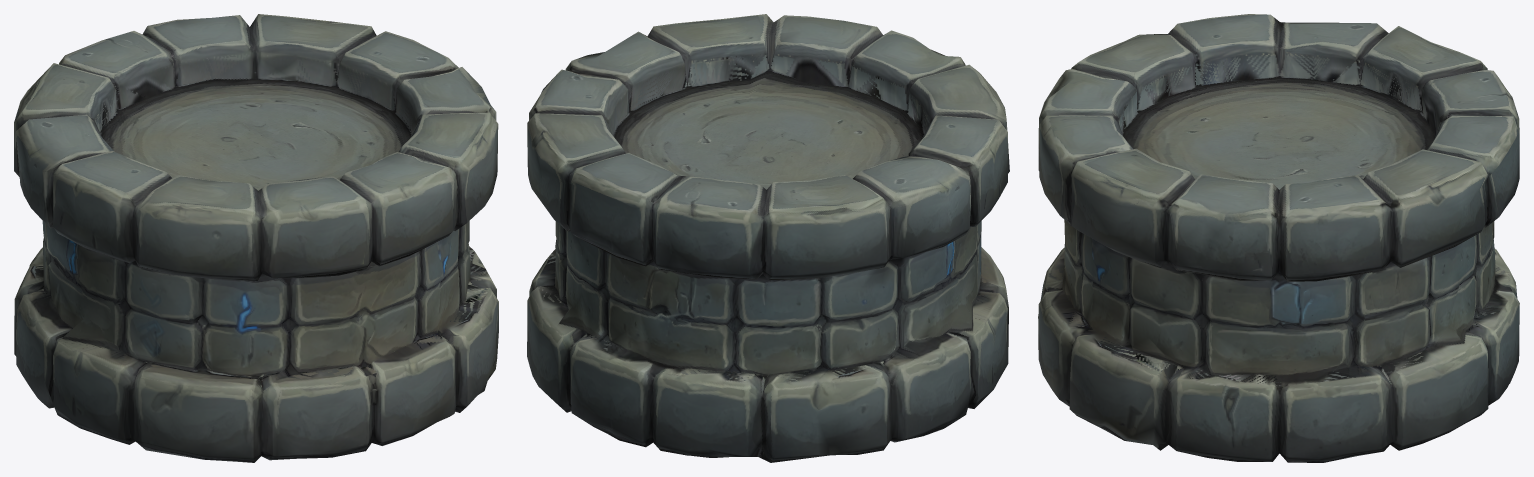
The model's file is Prop_Well.fbx.
The picture shows the model from 3 angles, left to right: view 1: azimuth 30°, elevation 25°; view 2: azimuth 150°, elevation 25°; view 3: azimuth 270°, elevation 25°; orthographic projection.
Parts seen in each view (by area): view 1: texture_mapping; view 2: texture_mapping; view 3: texture_mapping.
Boxes of the visible parts, x1,y1,x2,y2 form: texture_mapping: (14,14,498,462); texture_mapping: (527,14,1009,462); texture_mapping: (1038,14,1519,462).
Size of the model in its own units: 1 by 1 by 0.5884.
1 material, 1 textured.
